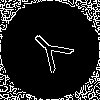Y: (25, 25, 81, 80)
